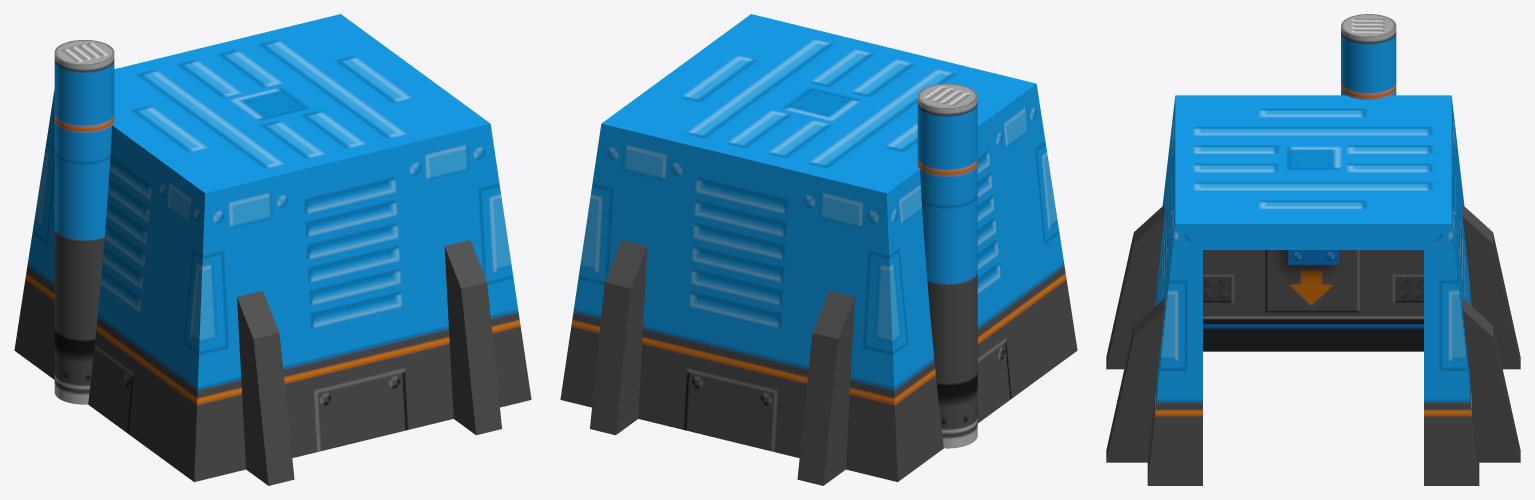
File: factory1.obj
The picture shows the model from 3 angles, left to right: view 1: azimuth 30°, elevation 25°; view 2: azimuth 150°, elevation 25°; view 3: azimuth 270°, elevation 25°; orthographic projection. The views are drawn at different scales.
Visible parts, largest first — view 1: ColobotMesh_1_ColobotMesh_; view 2: ColobotMesh_1_ColobotMesh_; view 3: ColobotMesh_1_ColobotMesh_.
Part boxes in pixels (x1,y1,x2,y2): ColobotMesh_1_ColobotMesh_: (14,14,531,485); ColobotMesh_1_ColobotMesh_: (560,14,1077,485); ColobotMesh_1_ColobotMesh_: (1106,14,1520,485).
Bounding box in the file's own units: 27.22 × 25 × 30.
